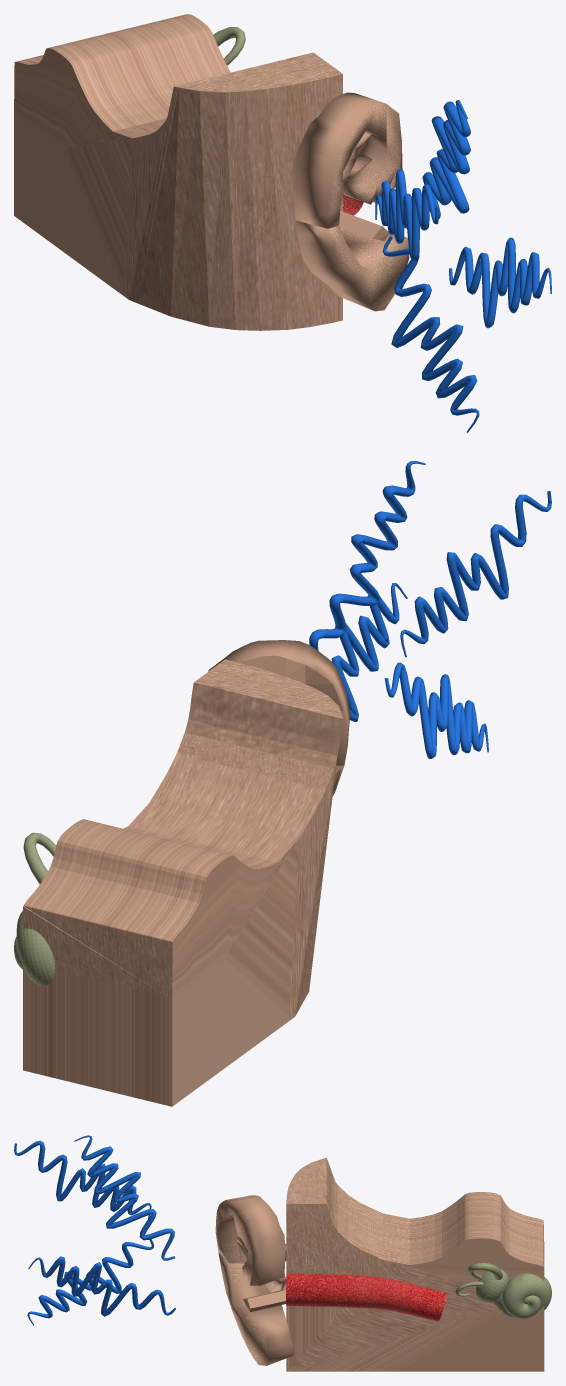
Rendered from oreja.obj.
The picture shows the model from 3 angles, top to bottom: view 1: azimuth 30°, elevation 25°; view 2: azimuth 150°, elevation 25°; view 3: azimuth 270°, elevation 25°; orthographic projection. The views are drawn at different scales.
Visible parts, largest first — view 1: Cuerpo_Cubo.001, Oreja_Plano, Onda_de_sonido.001_Curva_Bézier.007, Onda_de_sonido.003_Curva_Bézier.008, Onda_de_sonido.002_Curva_Bézier.007, Onda_de_sonido_Curva_Bézier.006, Curva_Bézier.001_Curva_Bézier.003; view 2: Cuerpo_Cubo.001, Onda_de_sonido_Curva_Bézier.006, Oreja_Plano, Onda_de_sonido.001_Curva_Bézier.007, Onda_de_sonido.002_Curva_Bézier.007, Onda_de_sonido.003_Curva_Bézier.008, Coclea_XYZ_Function.001, Curva_Bézier.001_Curva_Bézier.003; view 3: Cuerpo_Cubo.001, Oreja_Plano, BezierCurve, Coclea_XYZ_Function.001, Onda_de_sonido.002_Curva_Bézier.007, Onda_de_sonido.003_Curva_Bézier.008, Onda_de_sonido_Curva_Bézier.006, Onda_de_sonido.001_Curva_Bézier.007, Curva_Bézier.001_Curva_Bézier.003.
Boxes of the visible parts, x1,y1,x2,y2 form: Cuerpo_Cubo.001: [14, 14, 342, 330]; Oreja_Plano: [292, 92, 409, 311]; Onda_de_sonido.001_Curva_Bézier.007: [382, 236, 479, 432]; Onda_de_sonido.003_Curva_Bézier.008: [449, 237, 551, 328]; Onda_de_sonido.002_Curva_Bézier.007: [422, 100, 470, 218]; Onda_de_sonido_Curva_Bézier.006: [375, 169, 438, 261]; Curva_Bézier.001_Curva_Bézier.003: [213, 27, 245, 65]; Cuerpo_Cubo.001: [23, 659, 342, 1106]; Onda_de_sonido_Curva_Bézier.006: [400, 491, 551, 657]; Oreja_Plano: [208, 640, 350, 796]; Onda_de_sonido.001_Curva_Bézier.007: [384, 662, 488, 758]; Onda_de_sonido.002_Curva_Bézier.007: [309, 461, 425, 650]; Onda_de_sonido.003_Curva_Bézier.008: [331, 583, 407, 721]; Coclea_XYZ_Function.001: [14, 911, 55, 985]; Curva_Bézier.001_Curva_Bézier.003: [23, 832, 56, 884]; Cuerpo_Cubo.001: [286, 1157, 544, 1371]; Oreja_Plano: [215, 1195, 294, 1365]; BezierCurve: [286, 1273, 446, 1321]; Coclea_XYZ_Function.001: [476, 1269, 551, 1318]; Onda_de_sonido.002_Curva_Bézier.007: [74, 1135, 175, 1260]; Onda_de_sonido.003_Curva_Bézier.008: [28, 1256, 175, 1316]; Onda_de_sonido_Curva_Bézier.006: [14, 1140, 151, 1218]; Onda_de_sonido.001_Curva_Bézier.007: [27, 1239, 153, 1325]; Curva_Bézier.001_Curva_Bézier.003: [467, 1262, 502, 1279].
Size of the model in its own units: 2.77 by 4.55 by 9.79.
